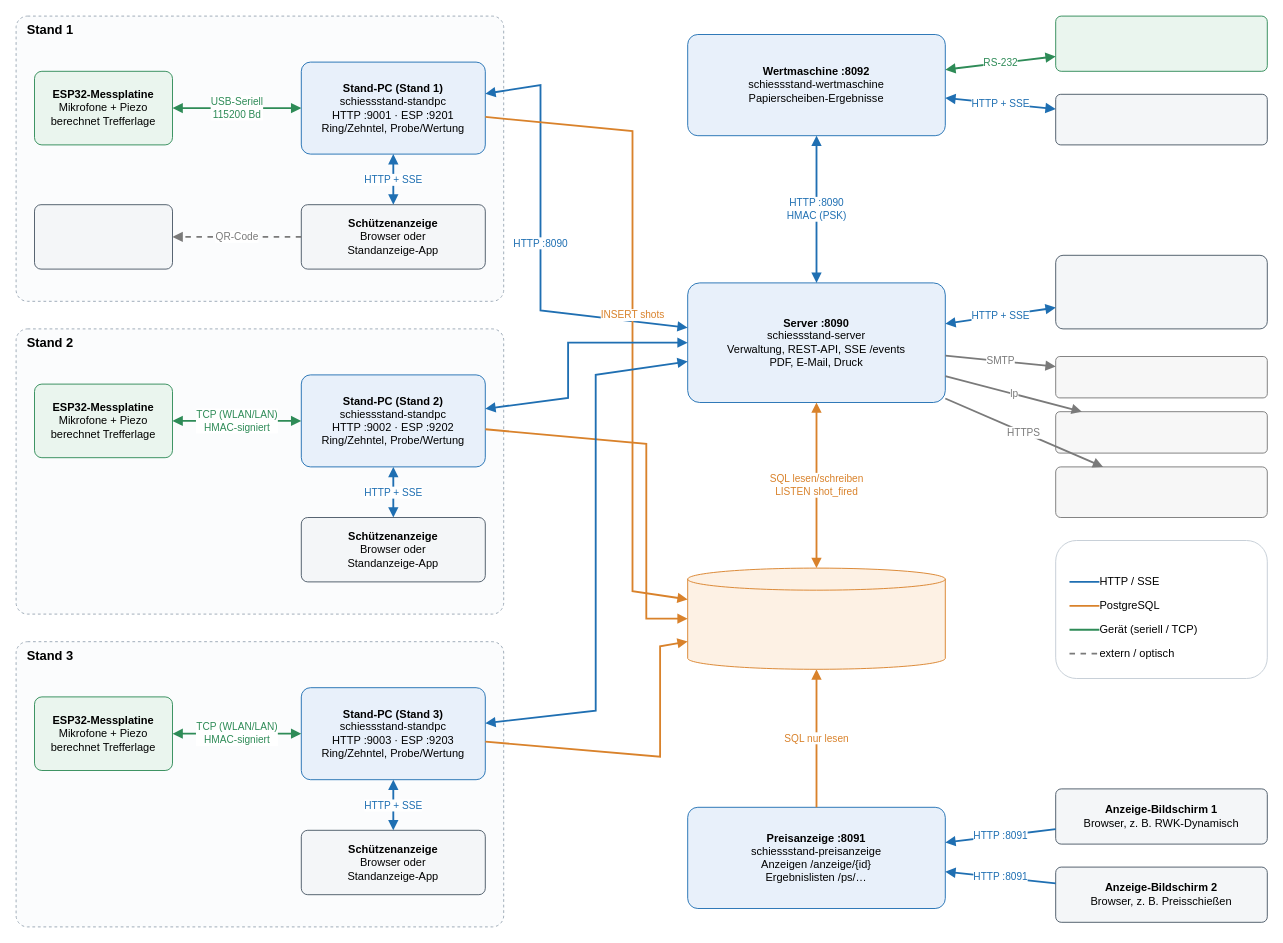
Some shapes in this 1283 by 943 pixel diagram are drawn without their labels. Each missing label, with the centre of its shape:
App „My Shootings“ (Smartphone): the point at 103,236
Browser Verwaltung Büro, Kasse, Aufsicht, Technik: the point at 1161,291
Browser Wertmaschine: the point at 1161,119
Disag RM III (Papierscheiben): the point at 1161,43
Drucker (CUPS): the point at 1161,432
Mailserver (SMTP): the point at 1161,377
Online-Anzeige (Internet) optional, HTTPS :443: the point at 1161,492
PostgreSQL :5432 Datenbank „schiessstand“: the point at 816,618
Verbindungen: the point at 1161,609
